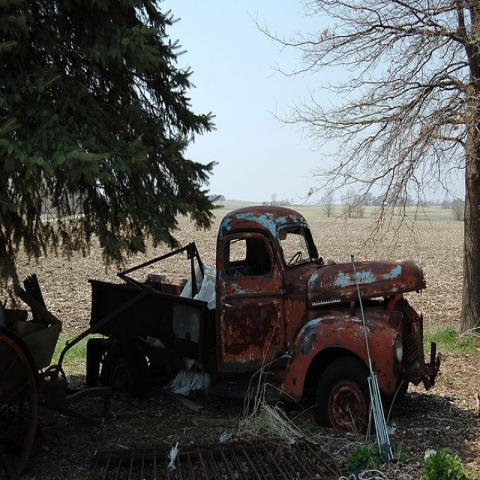truck: (86, 205, 441, 433)
